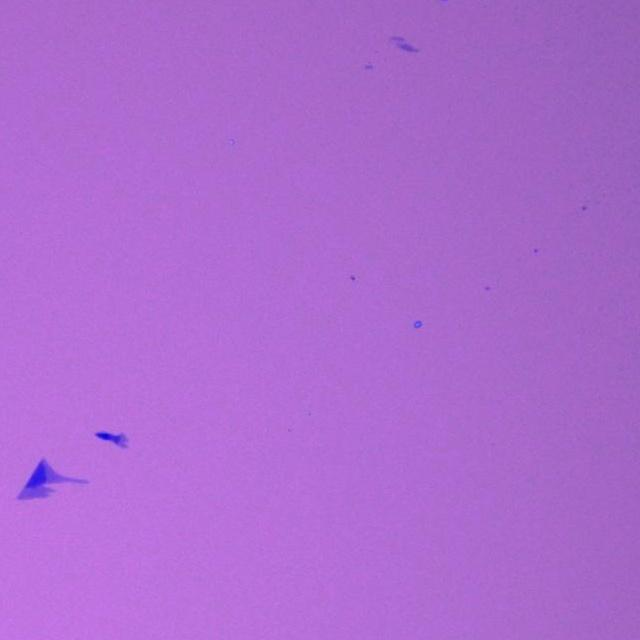monolayer-eWW4: (42, 455, 89, 487), (0, 486, 56, 499), (118, 432, 128, 448)
